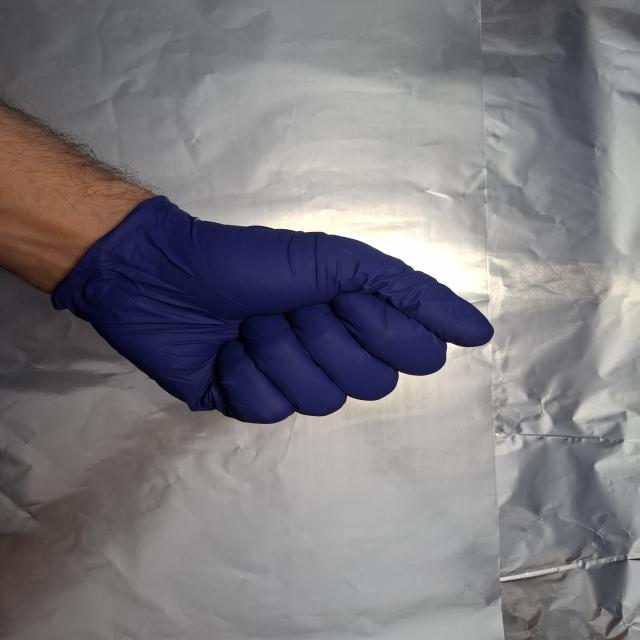glove_on: (61, 195, 501, 427)
